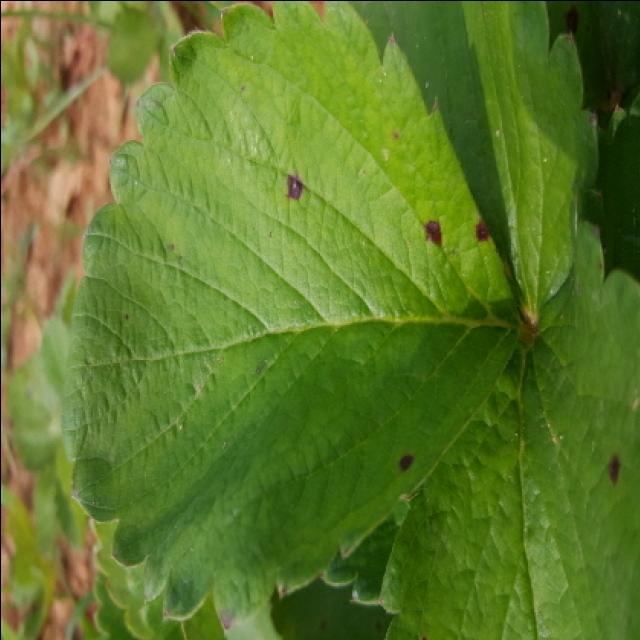Leaf Spot: (60, 2, 524, 632), (378, 219, 638, 640), (271, 575, 392, 640)
